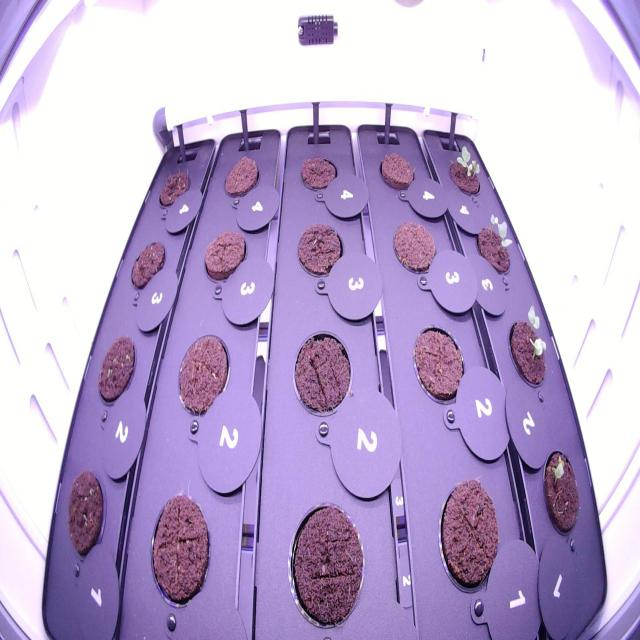germination: (538, 442, 586, 545), (503, 298, 552, 396), (472, 209, 518, 282), (444, 143, 488, 201)
pod: (283, 488, 372, 634), (433, 469, 502, 606), (147, 484, 215, 615), (287, 324, 356, 427), (170, 328, 233, 426), (408, 315, 469, 410), (62, 464, 108, 566), (292, 208, 346, 286), (92, 329, 141, 413), (198, 222, 251, 292), (388, 214, 439, 280), (126, 232, 169, 301), (374, 146, 419, 200), (293, 148, 340, 198), (219, 150, 262, 203), (152, 163, 195, 212)
